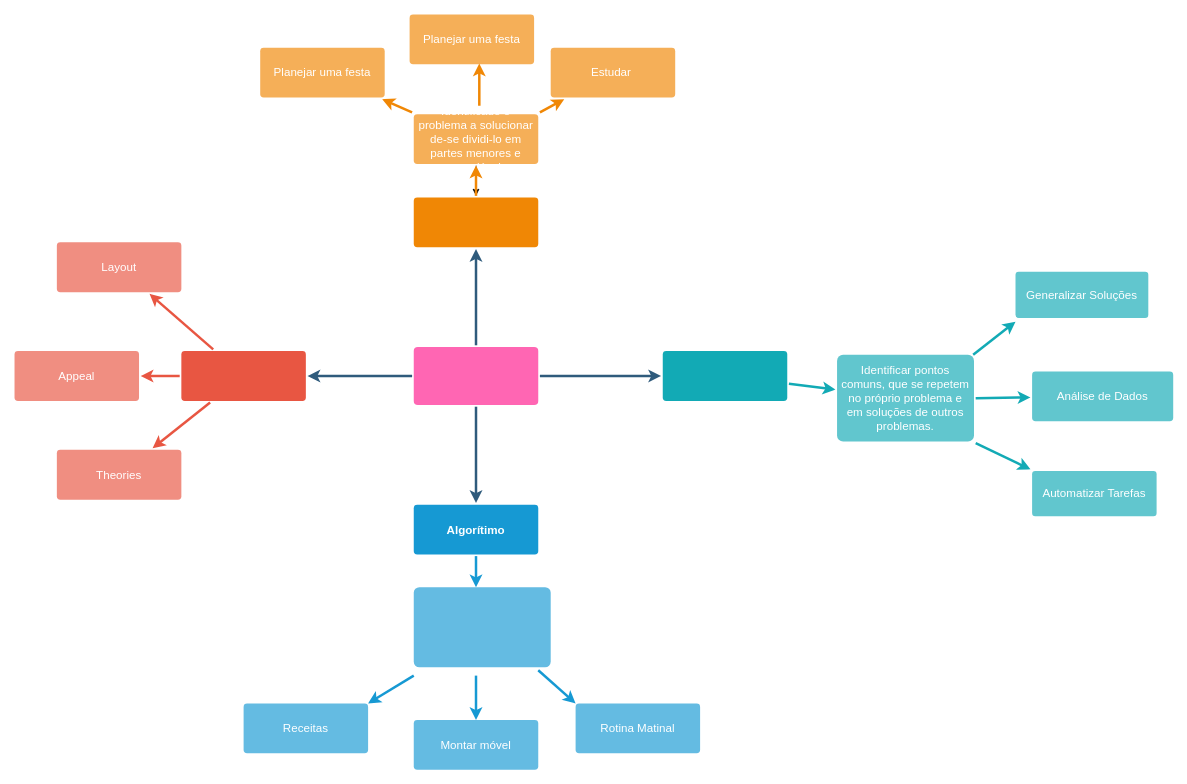
Image size: 1187x784. Some labels were removed from this diagram. Here are the shapes that lost their labels. From the top down, the centre of each, then its label:
At (x=475, y=222): "Decomposição".
At (x=243, y=375): "Abstração".
At (x=475, y=376): "Pilares do PC".
At (x=724, y=375): "Reconhecimento de Padrões".
At (x=481, y=627): "Sequência ordenada infinita de ações que permitemsolucionar problemas".
